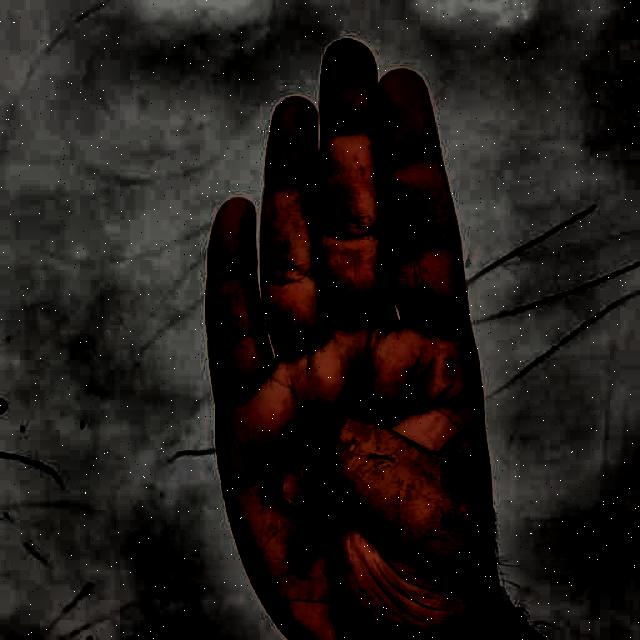Ba: (174, 21, 542, 640)
